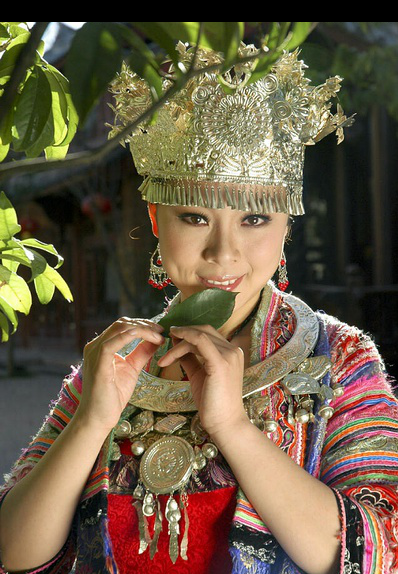face: (159, 143, 284, 313)
